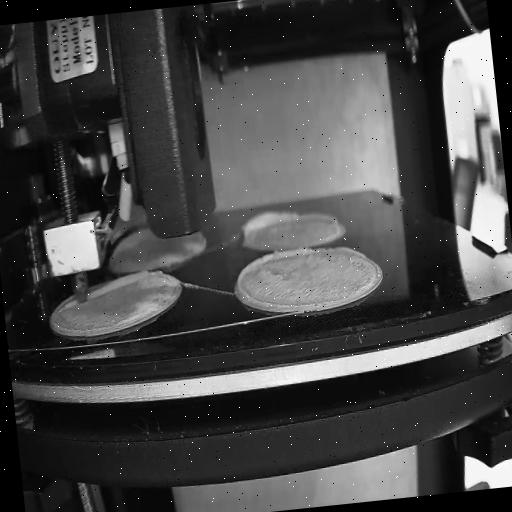over_extrusion: (234, 245, 312, 313), (86, 268, 161, 300), (236, 206, 301, 240), (301, 205, 338, 229), (326, 242, 368, 263), (58, 298, 78, 313)
